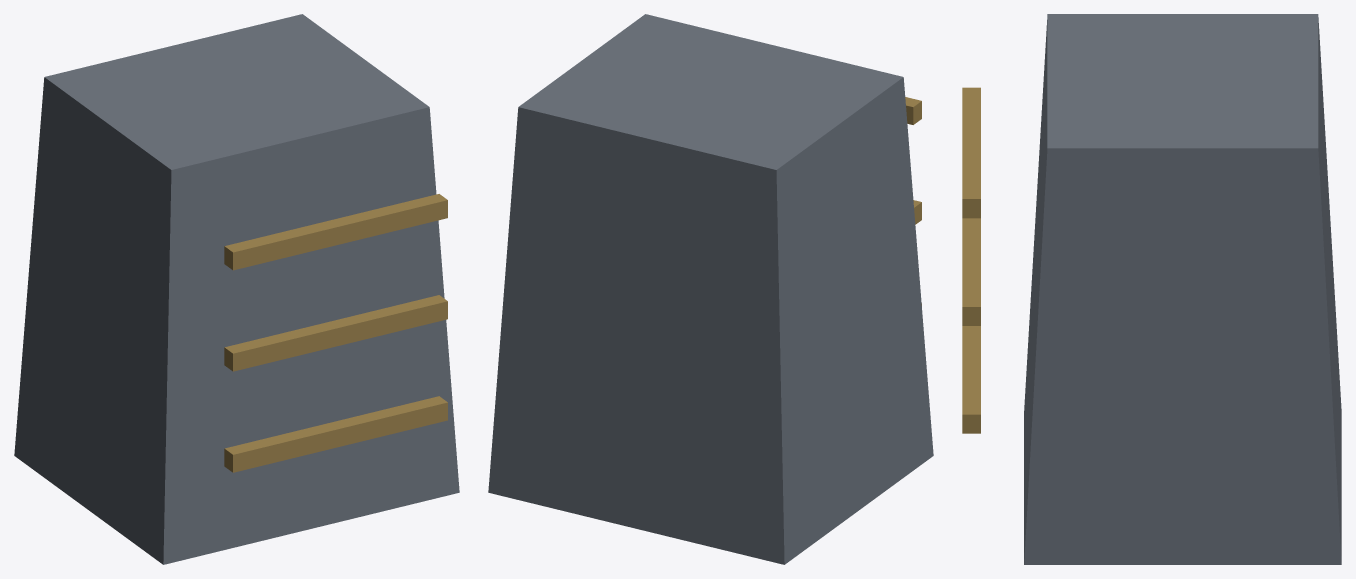
Rendered from tall_tablet.obj.
3 renders of one model, left to right at view 1: azimuth 30°, elevation 25°; view 2: azimuth 150°, elevation 25°; view 3: azimuth 270°, elevation 25°, orthographic. The views are drawn at different scales.
Visible parts, largest first — view 1: tall_tablet, tablet_ridge_0.38, tablet_ridge_0.56, tablet_ridge_0.2, tablet_ridge_0.56_edge, tablet_ridge_0.2_edge, tablet_ridge_0.38_edge; view 2: tall_tablet; view 3: tall_tablet, tablet_ridge_0.56_edge, tablet_ridge_0.2_edge, tablet_ridge_0.38_edge.
Boxes of the visible parts, x1=… form: tall_tablet: x1=14, y1=14, x2=459, y2=564; tablet_ridge_0.38: x1=233, y1=301, x2=447, y2=371; tablet_ridge_0.56: x1=233, y1=200, x2=447, y2=270; tablet_ridge_0.2: x1=233, y1=402, x2=447, y2=472; tablet_ridge_0.56_edge: x1=224, y1=194, x2=447, y2=269; tablet_ridge_0.2_edge: x1=224, y1=396, x2=447, y2=472; tablet_ridge_0.38_edge: x1=224, y1=295, x2=447, y2=371; tall_tablet: x1=488, y1=14, x2=933, y2=564; tall_tablet: x1=1024, y1=14, x2=1341, y2=564; tablet_ridge_0.56_edge: x1=962, y1=87, x2=980, y2=218; tablet_ridge_0.2_edge: x1=962, y1=326, x2=980, y2=433; tablet_ridge_0.38_edge: x1=962, y1=218, x2=980, y2=325.
Size of the model in its own units: 0.5515 by 0.68 by 0.5744.
